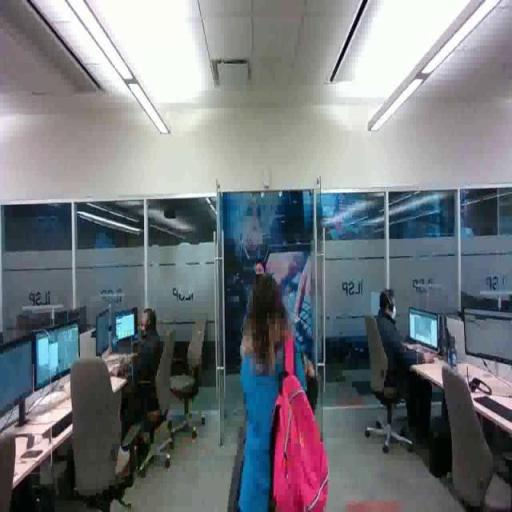person: (236, 272, 322, 512), (365, 279, 444, 441), (111, 303, 185, 470)
